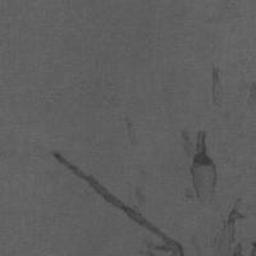Water spot: (50, 148, 186, 256), (179, 128, 219, 207), (210, 195, 256, 256), (210, 63, 225, 109), (122, 116, 141, 146), (191, 234, 207, 256), (246, 81, 256, 108)
